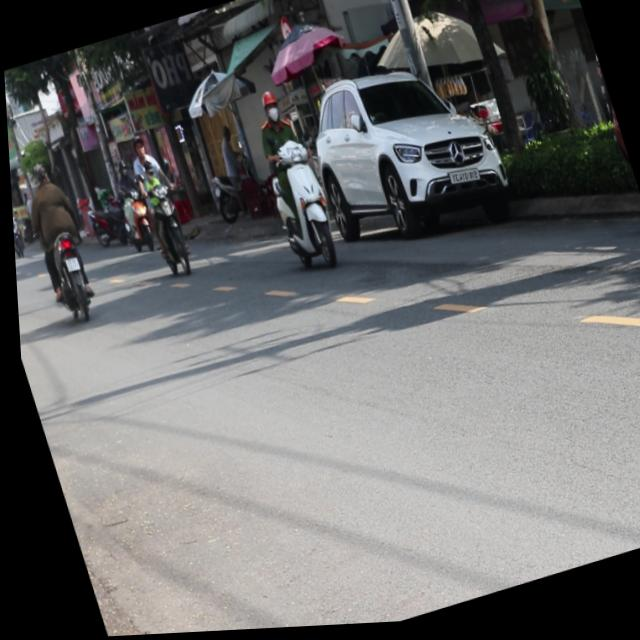helmet: (257, 90, 283, 127), (28, 158, 49, 184)
licenseplate: (238, 83, 344, 281), (10, 152, 103, 327)
nohelmet: (61, 255, 77, 272)
